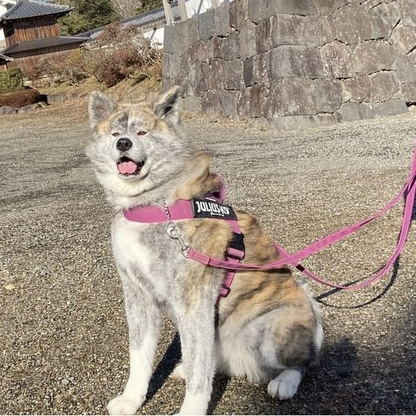akita: (79, 83, 338, 416)
